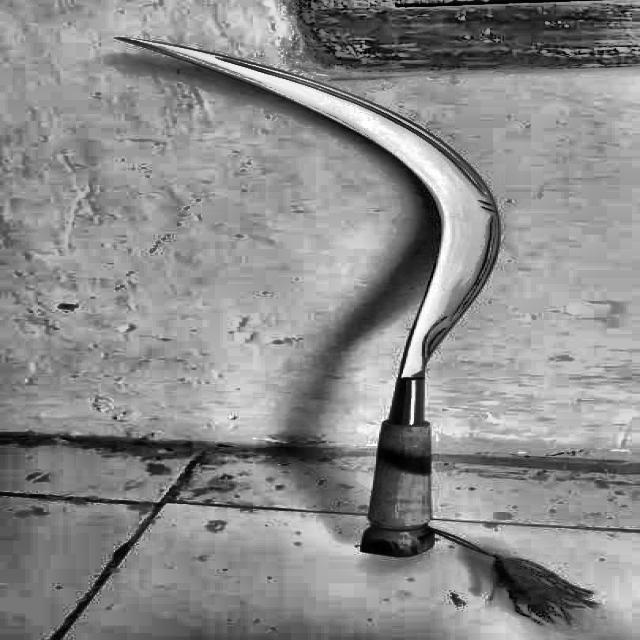celurit: (98, 30, 526, 557)
